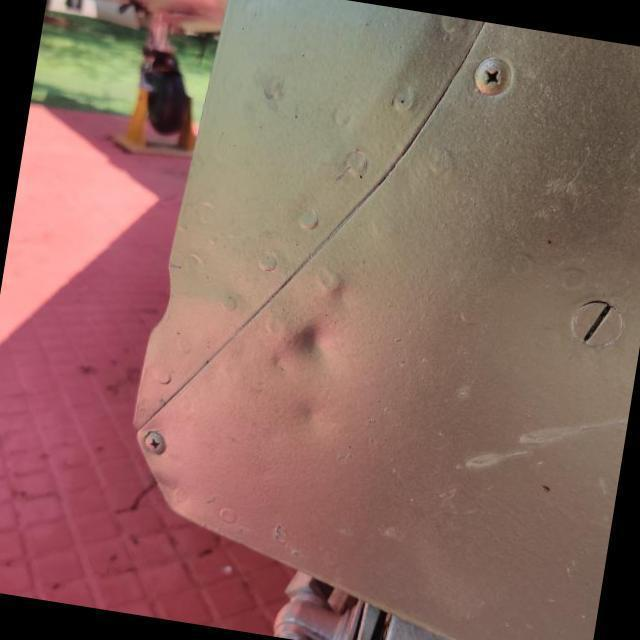Dent: (256, 288, 380, 401)
